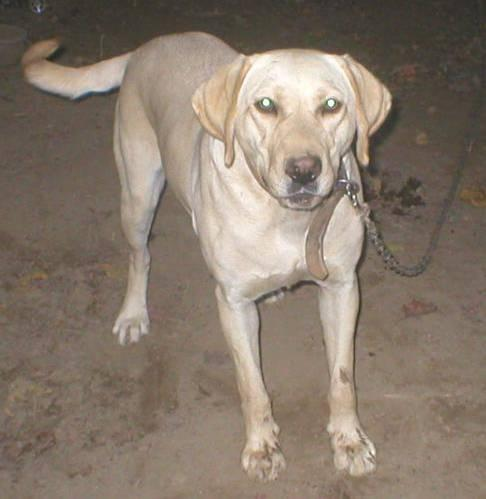dog: (21, 32, 391, 478)
